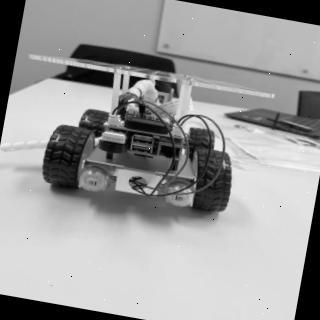vehicle: (9, 49, 274, 230)
